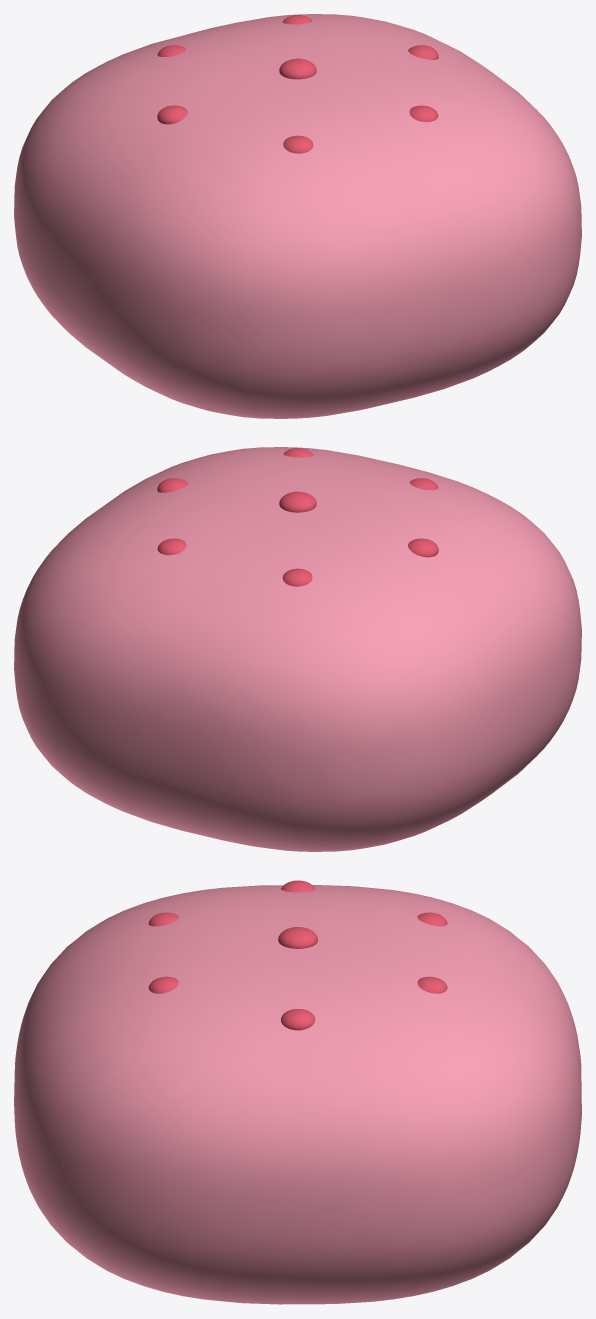
File: deco_puf.glb
3 renders of one model, top to bottom at view 1: azimuth 30°, elevation 25°; view 2: azimuth 150°, elevation 25°; view 3: azimuth 270°, elevation 25°, orthographic. The views are drawn at different scales.
Parts seen in each view (by area): view 1: puf.001, botón centro.001; view 2: puf.001, botón centro.001; view 3: puf.001, botón centro.001, botón puf 0.001.
Part boxes in pixels (x1,y1,x2,y2): puf.001: (14,14,581,418); botón centro.001: (279,58,316,79); puf.001: (14,447,581,851); botón centro.001: (279,491,316,512); puf.001: (14,885,581,1304); botón centro.001: (278,927,317,948); botón puf 0.001: (281,1009,315,1030).
Size of the model in its own units: 0.5981 by 0.3709 by 0.5984.
